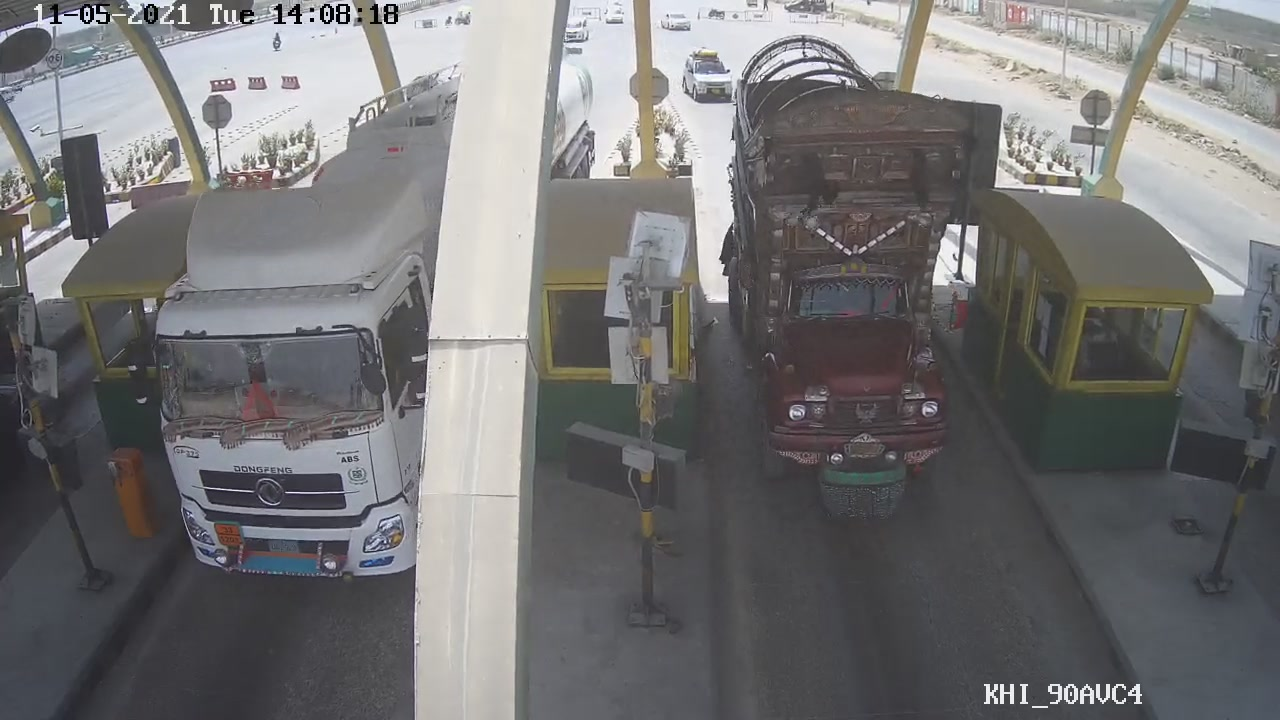F5: (720, 46, 988, 518)
